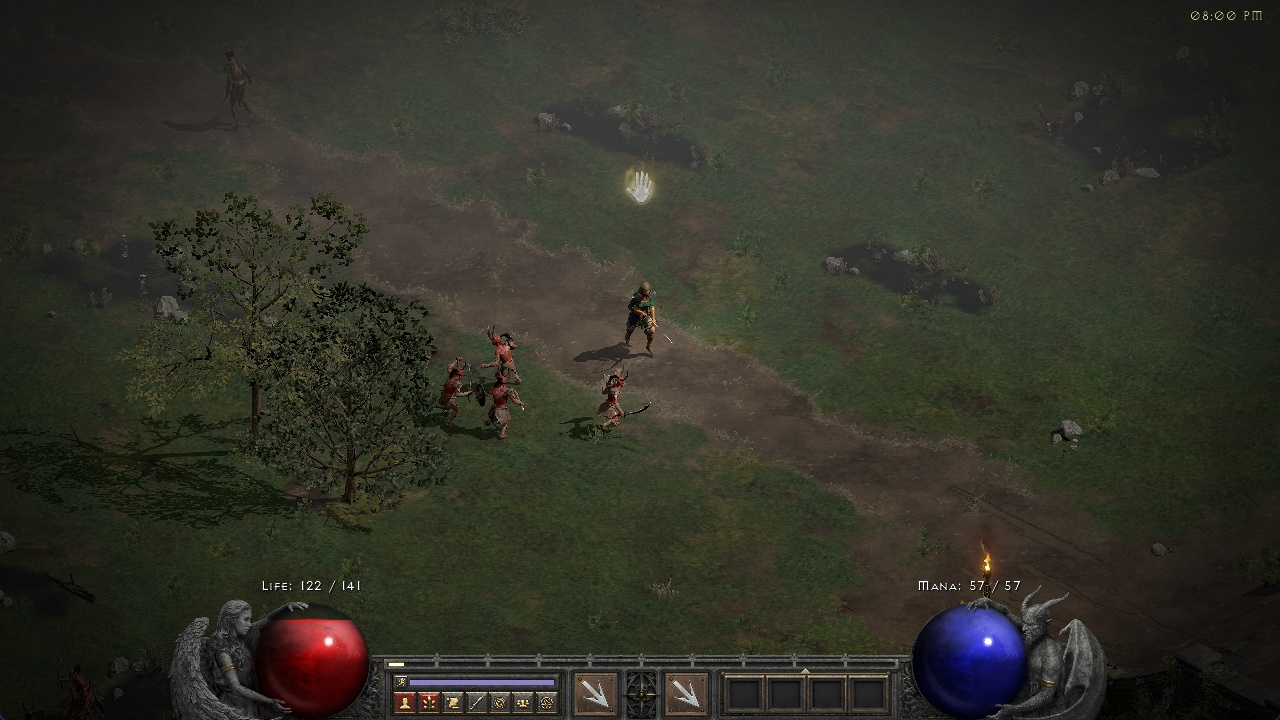fallen: (591, 367, 653, 434), (474, 374, 524, 432), (436, 352, 472, 430), (481, 327, 529, 372)
